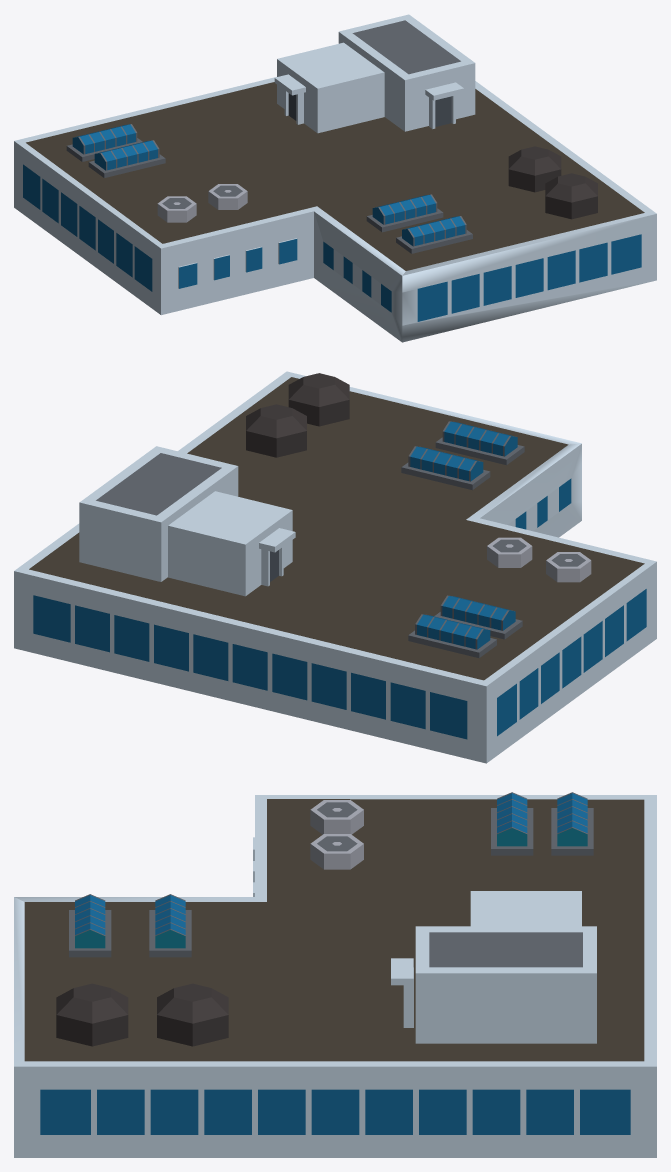
The model's file is complexSkysc.fbx.
3 renders of one model, top to bottom at view 1: azimuth 30°, elevation 25°; view 2: azimuth 150°, elevation 25°; view 3: azimuth 270°, elevation 25°, orthographic. The views are drawn at different scales.
Parts seen in each view (by area): view 1: selling, top, walls.001, selling.001, walls.003, walls.004, walls.002, walls, walls.005; view 2: selling, top, walls.005, selling.001, walls.004, walls.002, walls, walls.001, walls.003; view 3: selling, walls, top, selling.001, walls.005, walls.001, walls.004, walls.003, walls.002.
Boxes of the visible parts, left/top/right/bottom form: selling: left=179, top=82, right=644, bottom=270; top: left=66, top=14, right=597, bottom=253; walls.001: left=402, top=213, right=656, bottom=342; selling.001: left=26, top=105, right=316, bottom=243; walls.003: left=161, top=206, right=316, bottom=315; walls.004: left=14, top=141, right=162, bottom=314; walls.002: left=314, top=206, right=405, bottom=342; walls: left=475, top=81, right=656, bottom=213; walls.005: left=14, top=77, right=276, bottom=142; selling: left=29, top=377, right=568, bottom=636; top: left=79, top=373, right=591, bottom=657; walls.005: left=14, top=569, right=486, bottom=763; selling.001: left=306, top=520, right=644, bottom=680; walls.004: left=484, top=561, right=656, bottom=762; walls.002: left=466, top=443, right=581, bottom=537; walls: left=14, top=371, right=290, bottom=570; walls.001: left=287, top=371, right=580, bottom=444; walls.003: left=466, top=518, right=656, bottom=563; selling: left=24, top=902, right=644, bottom=1061; walls: left=14, top=1061, right=656, bottom=1157; top: left=56, top=792, right=596, bottom=1046; selling.001: left=267, top=799, right=644, bottom=901; walls.005: left=644, top=795, right=656, bottom=1066; walls.001: left=14, top=897, right=24, bottom=1066; walls.004: left=255, top=795, right=656, bottom=799; walls.003: left=253, top=795, right=266, bottom=901; walls.002: left=14, top=897, right=266, bottom=901.
Size of the model in its own units: 3200 by 887 by 3200.
